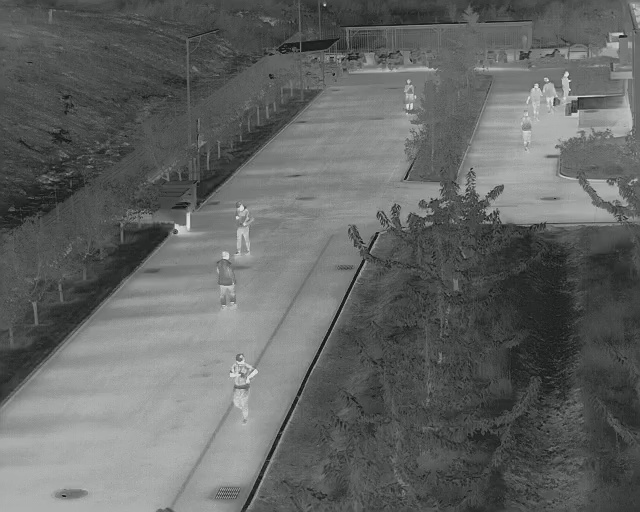person: (230, 354, 258, 420), (215, 250, 237, 311), (233, 201, 252, 258), (541, 77, 557, 113), (527, 82, 542, 117), (520, 111, 532, 150), (403, 78, 416, 113), (559, 71, 571, 102)
